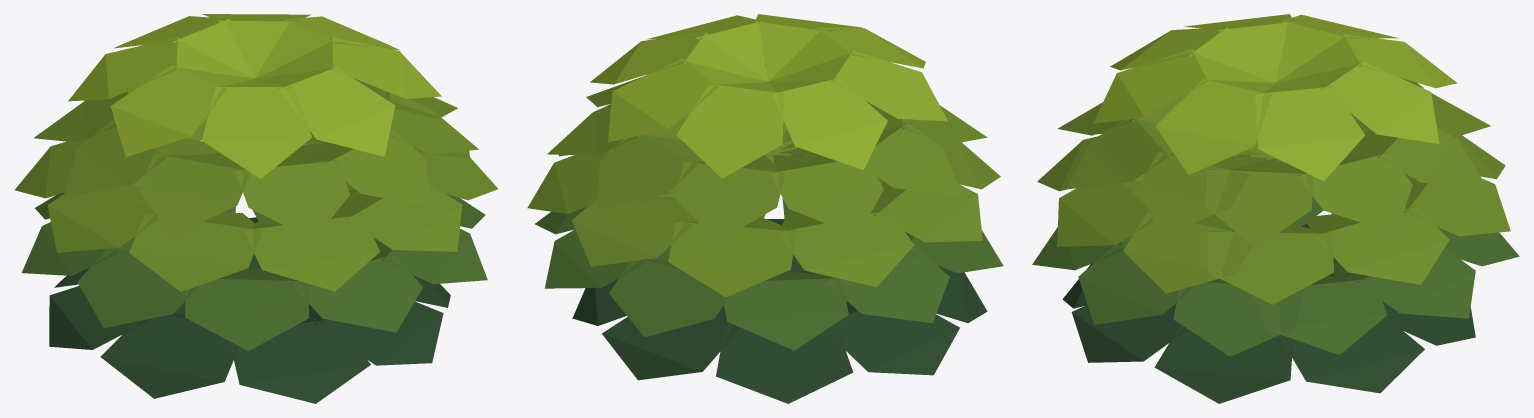
Rendered from bush01.fbx.
3 views of the same model, side by side, from view 1: azimuth 30°, elevation 25°; view 2: azimuth 150°, elevation 25°; view 3: azimuth 270°, elevation 25° (orthographic).
Visible parts, largest first — view 1: Mesh_Bush01; view 2: Mesh_Bush01; view 3: Mesh_Bush01.
Boxes of the visible parts, x1,y1,x2,y2 form: Mesh_Bush01: (14, 14, 498, 403); Mesh_Bush01: (527, 14, 1003, 403); Mesh_Bush01: (1032, 14, 1519, 403).
Bounding box in the file's own units: 2.26 × 2.26 × 1.34.
